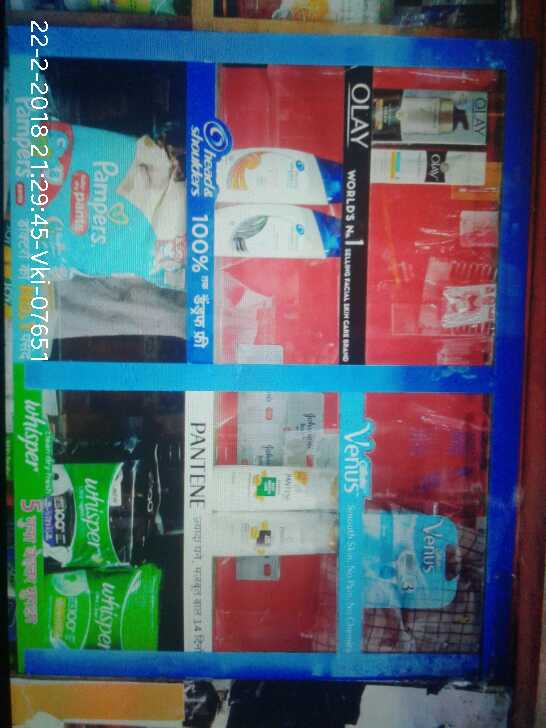venus: (362, 513, 462, 607)
